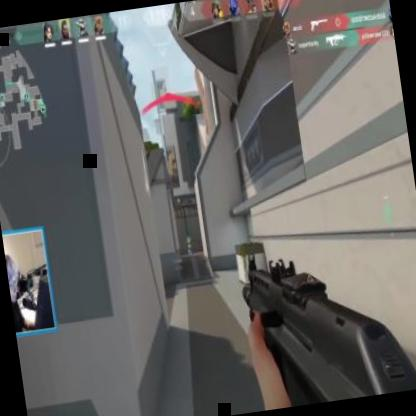enemy: (184, 233, 192, 254)
enemy_head: (186, 236, 189, 240)
